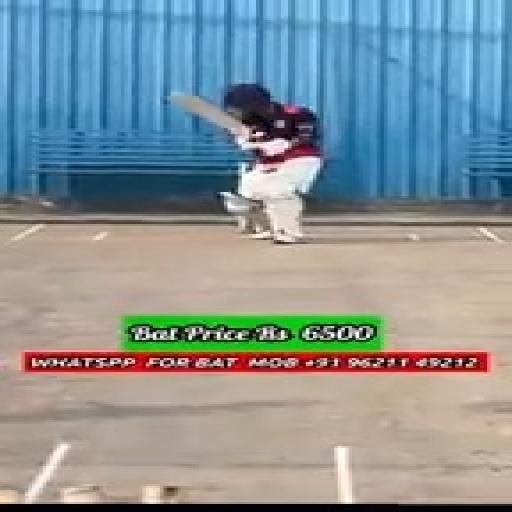Cricket bat: (171, 94, 242, 130)
